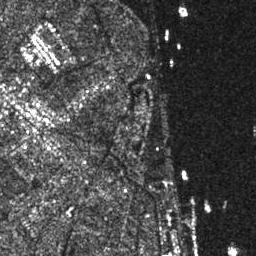ship: (176, 3, 190, 18), (203, 198, 213, 215), (180, 168, 190, 182), (164, 28, 171, 41), (145, 71, 152, 81), (169, 57, 174, 69)
